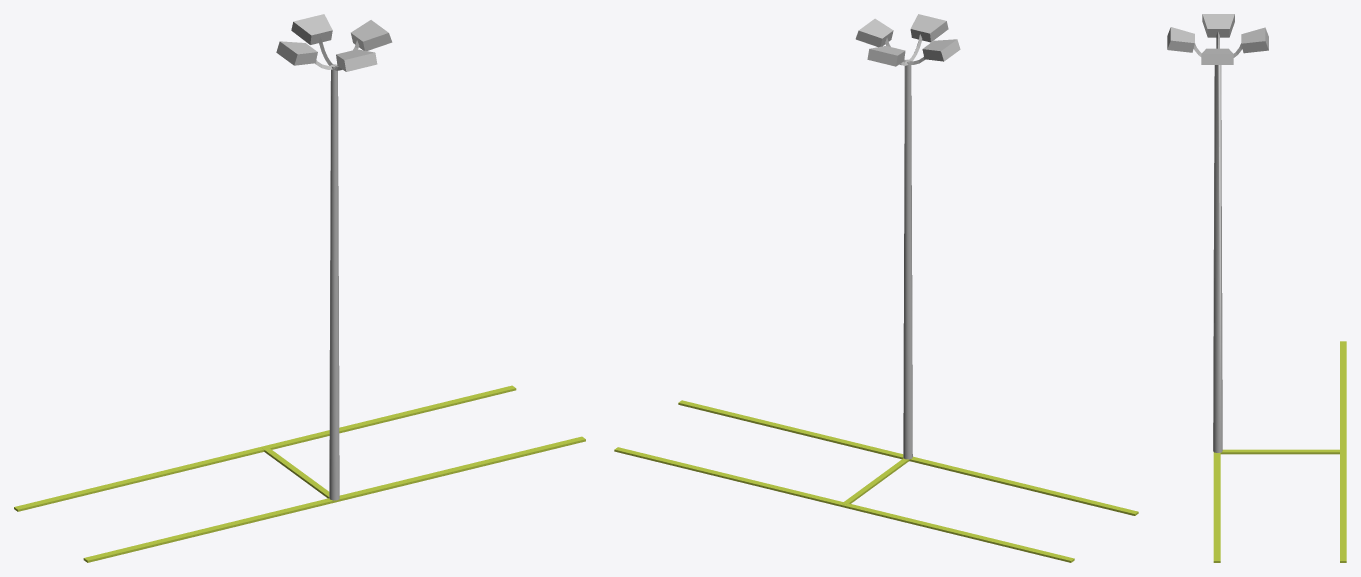
The model's file is parking.fbx.
3 renders of one model, left to right at view 1: azimuth 30°, elevation 25°; view 2: azimuth 150°, elevation 25°; view 3: azimuth 270°, elevation 25°, orthographic. The views are drawn at different scales.
Visible parts, largest first — view 1: Material2.036, Material2.013, Material2.015; view 2: Material2.036, Material2.013, Material2.015; view 3: Material2.036, Material2.013, Material2.015.
Part boxes in pixels (x1,y1,x2,y2): Material2.036: (276,14,392,500); Material2.013: (83,436,585,562); Material2.015: (14,385,516,511); Material2.036: (855,14,960,459); Material2.013: (678,400,1138,515); Material2.015: (614,447,1074,562); Material2.036: (1167,14,1268,452); Material2.013: (1213,449,1343,562); Material2.015: (1340,341,1346,562).
Size of the model in its own units: 52.17 by 46.35 by 18.01.
